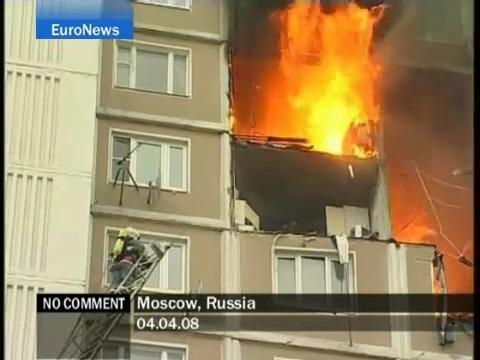fire: (246, 0, 383, 160)
